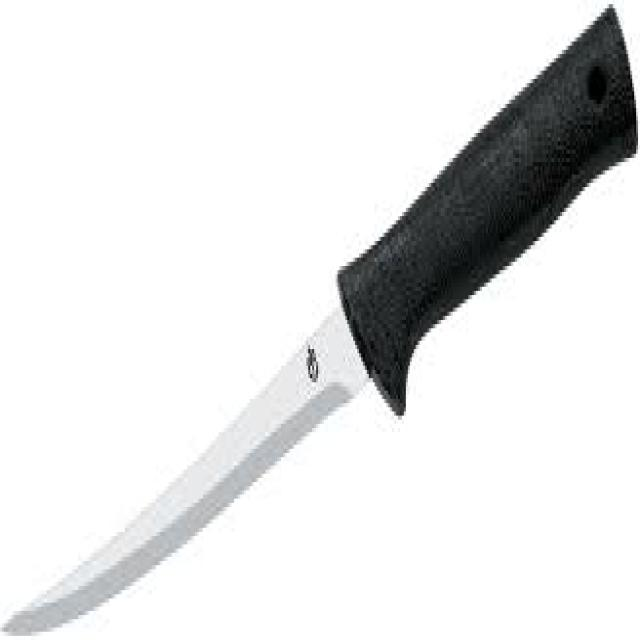Knife: (29, 8, 634, 603)
